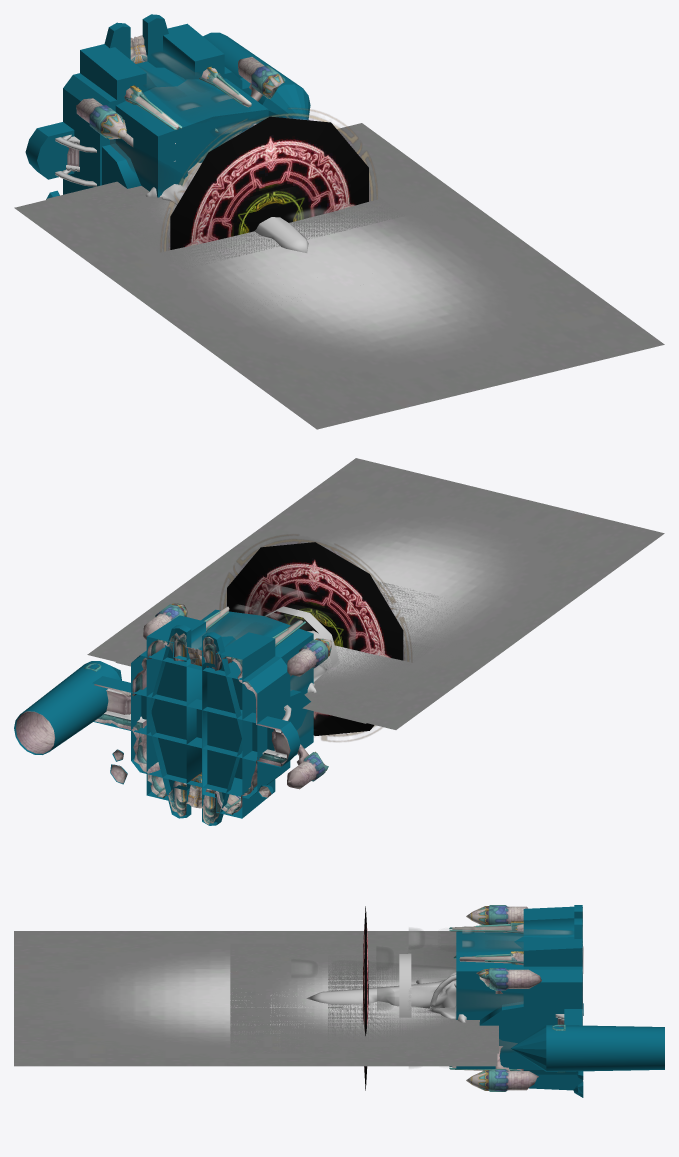
3 renders of one model, top to bottom at view 1: azimuth 30°, elevation 25°; view 2: azimuth 150°, elevation 25°; view 3: azimuth 270°, elevation 25°, orthographic. The views are drawn at different scales.
Parts seen in each view (by area): view 1: "object0091_Editable Poly", "object0159_Editable Poly", "object0182_true wall", object0185_Object01, object0191_UA114:1, object0196_UA114:2, "object0166_true wall-2", object0037_Light07, object0129_Plane, "object0059_Editable Poly", "object0031_Editable Poly", object0074_PolyMesh; view 2: "object0091_Editable Poly", "object0182_true wall", "object0159_Editable Poly", "object0166_true wall-2", object0191_UA114:1, object0185_Object01, object0189_UA114:0, object0170_UA114-S, object0201_UA114:3, object0037_Light07, object0129_Plane, object0196_UA114:2 (+2 smaller); view 3: "object0091_Editable Poly", "object0182_true wall", object0185_Object01, object0191_UA114:1, object0196_UA114:2, "object0045_Editable Poly", object0074_PolyMesh, object0037_Light07, "object0083_Editable Poly", "object0159_Editable Poly", "object0059_Editable Poly", "object0166_true wall-2" (+1 smaller).
Part boxes in pixels (bbox=[...]): "object0091_Editable Poly": bbox=[14, 123, 664, 429]; "object0159_Editable Poly": bbox=[170, 116, 368, 249]; "object0182_true wall": bbox=[25, 23, 310, 194]; object0185_Object01: bbox=[102, 67, 268, 197]; object0191_UA114:1: bbox=[67, 57, 284, 166]; object0196_UA114:2: bbox=[55, 123, 308, 252]; "object0166_true wall-2": bbox=[46, 14, 168, 199]; object0037_Light07: bbox=[152, 79, 260, 135]; object0129_Plane: bbox=[160, 108, 377, 251]; "object0059_Editable Poly": bbox=[110, 139, 169, 192]; "object0031_Editable Poly": bbox=[153, 52, 235, 101]; object0074_PolyMesh: bbox=[198, 156, 338, 225]; "object0091_Editable Poly": bbox=[87, 458, 664, 729]; "object0182_true wall": bbox=[14, 615, 300, 818]; "object0159_Editable Poly": bbox=[227, 542, 403, 735]; "object0166_true wall-2": bbox=[110, 624, 273, 825]; object0191_UA114:1: bbox=[106, 603, 331, 789]; object0185_Object01: bbox=[201, 609, 313, 779]; object0189_UA114:0: bbox=[94, 639, 286, 814]; object0170_UA114-S: bbox=[168, 633, 220, 824]; object0201_UA114:3: bbox=[16, 663, 101, 753]; object0037_Light07: bbox=[217, 584, 311, 639]; object0129_Plane: bbox=[219, 534, 411, 741]; object0196_UA114:2: bbox=[104, 630, 326, 759]; "object0091_Editable Poly": bbox=[14, 931, 498, 1066]; "object0182_true wall": bbox=[511, 906, 664, 1090]; object0185_Object01: bbox=[456, 931, 548, 1068]; object0191_UA114:1: bbox=[449, 905, 583, 1091]; object0196_UA114:2: bbox=[306, 972, 564, 1022]; "object0045_Editable Poly": bbox=[377, 988, 523, 1010]; object0074_PolyMesh: bbox=[291, 960, 455, 980]; object0037_Light07: bbox=[408, 928, 522, 949]; "object0083_Editable Poly": bbox=[399, 953, 411, 1017]; "object0159_Editable Poly": bbox=[363, 906, 368, 1090]; "object0059_Editable Poly": bbox=[376, 948, 455, 968]; "object0166_true wall-2": bbox=[573, 905, 583, 1097].
Size of the model in its own units: 120 by 81.65 by 245.
